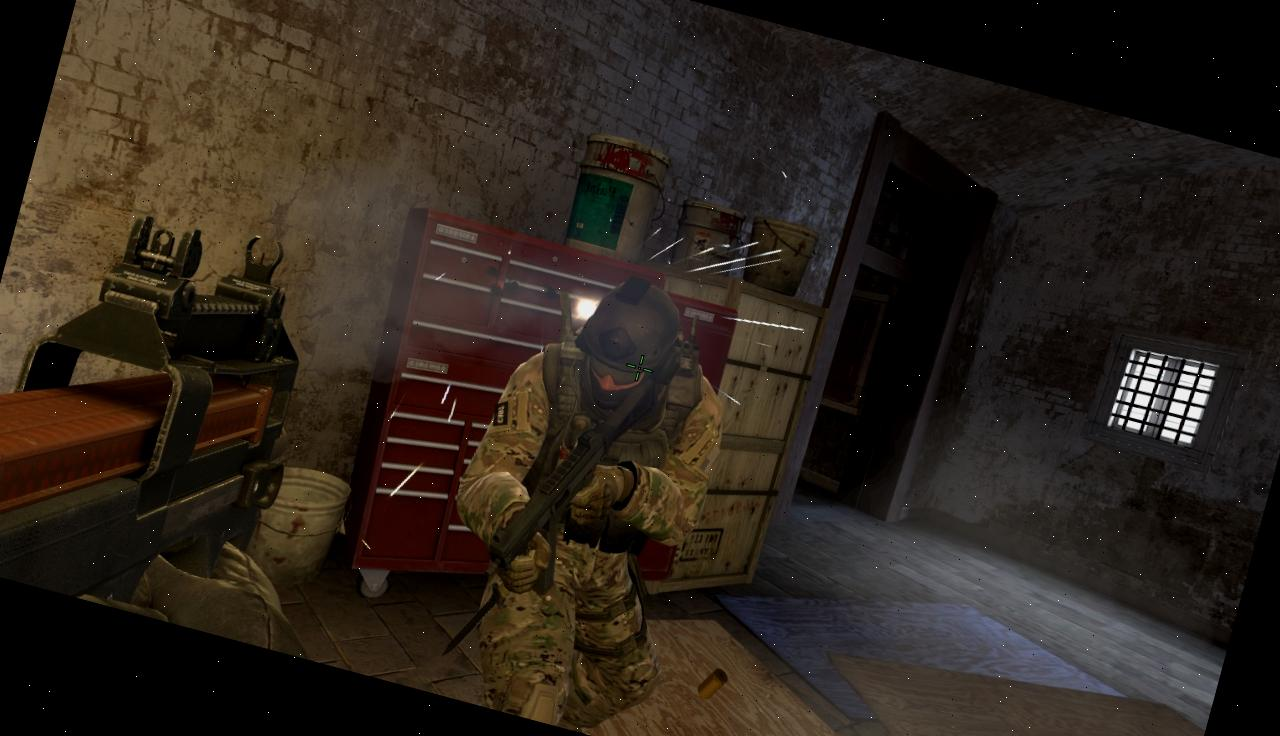ct: (408, 248, 753, 736)
cthead: (564, 271, 690, 425)
rifle: (0, 174, 349, 643)
